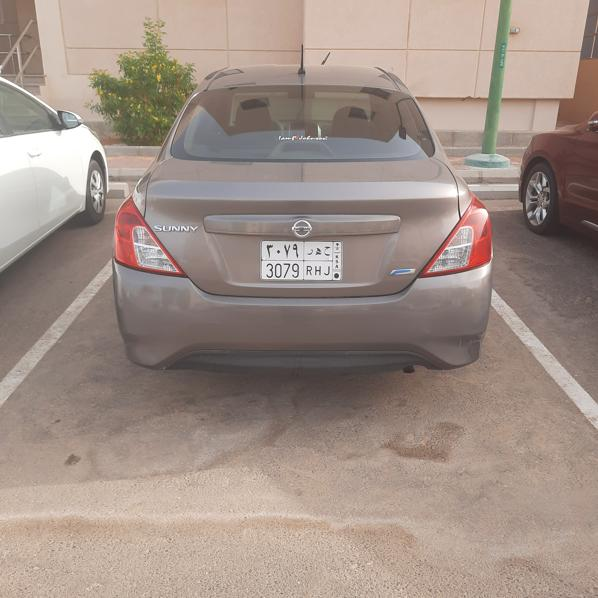numberplate: (260, 241, 342, 280)
